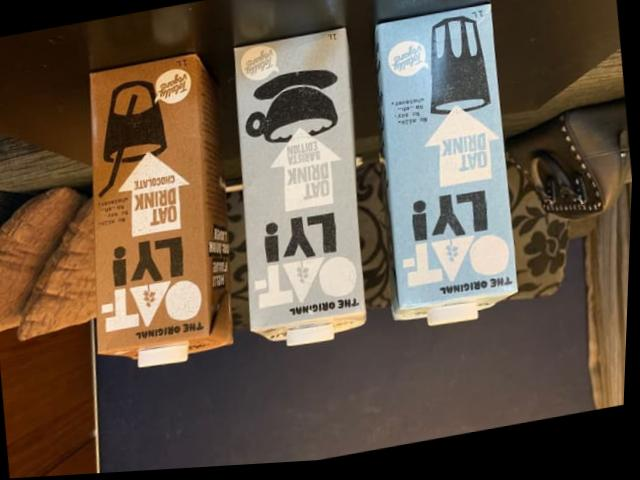cardboard: (376, 4, 517, 325), (90, 54, 232, 366), (234, 28, 365, 345)
